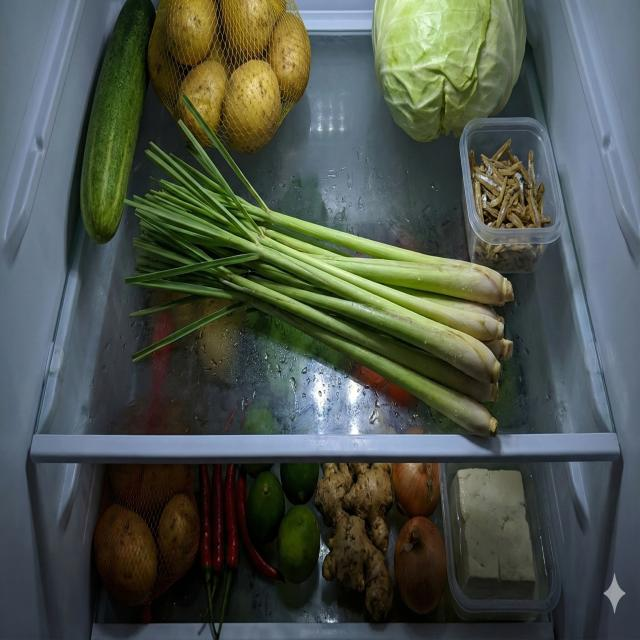anchovies: (468, 134, 552, 277)
cabbage: (373, 0, 525, 143)
chili: (198, 462, 286, 640)
cucumber: (79, 0, 156, 243)
ginger: (314, 462, 392, 624)
lemongrass: (123, 88, 516, 442)
lime: (248, 463, 320, 586)
onion: (392, 460, 446, 616)
potato: (148, 0, 313, 154), (90, 464, 200, 604)
tofu: (451, 471, 538, 601)
